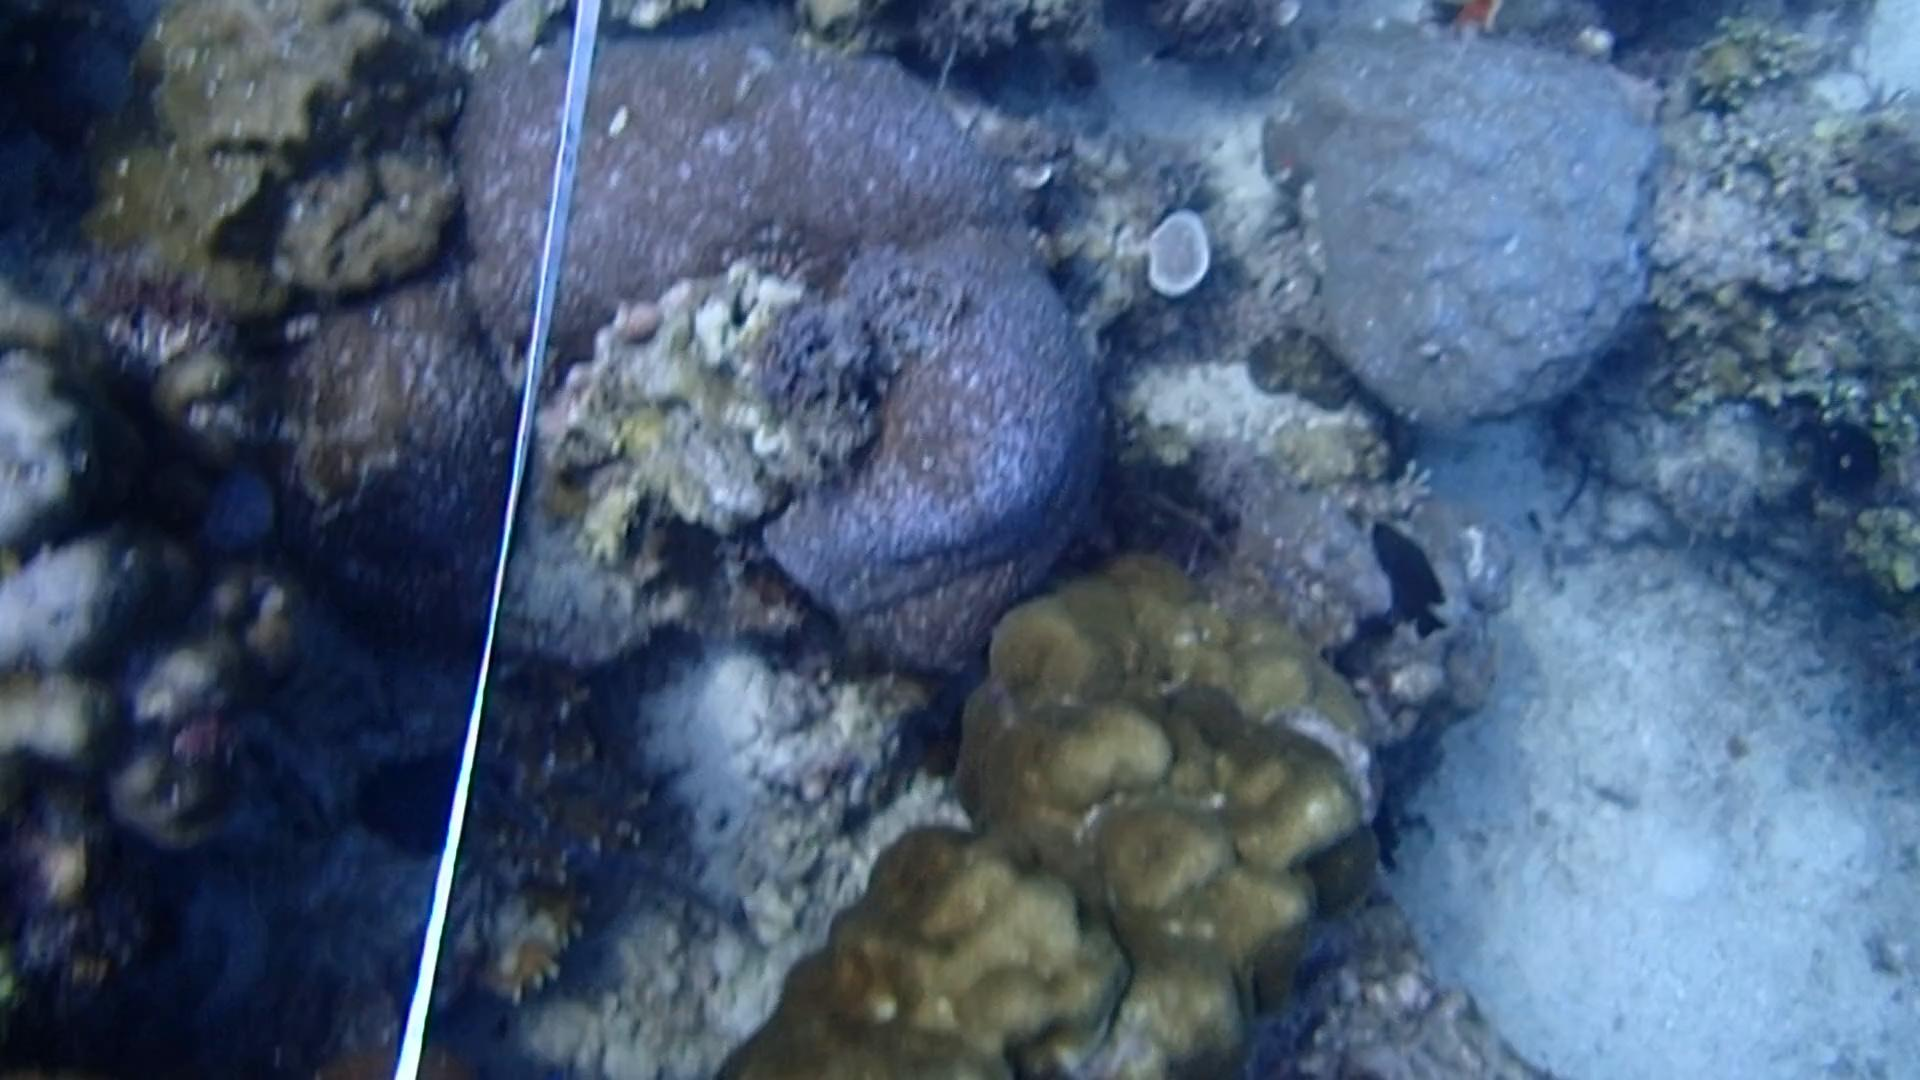Dark Fish: (1369, 517, 1461, 645)
